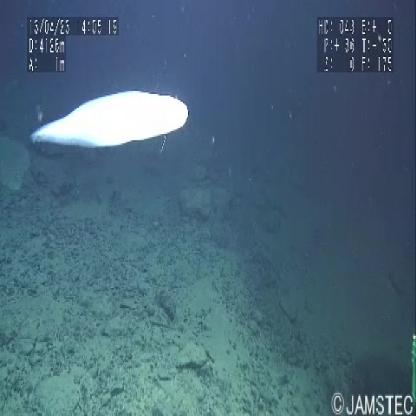Bio: (27, 84, 197, 155)
